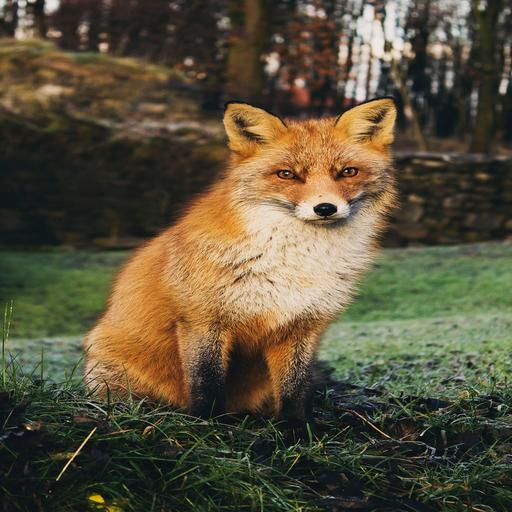Fox: (76, 94, 404, 442)
